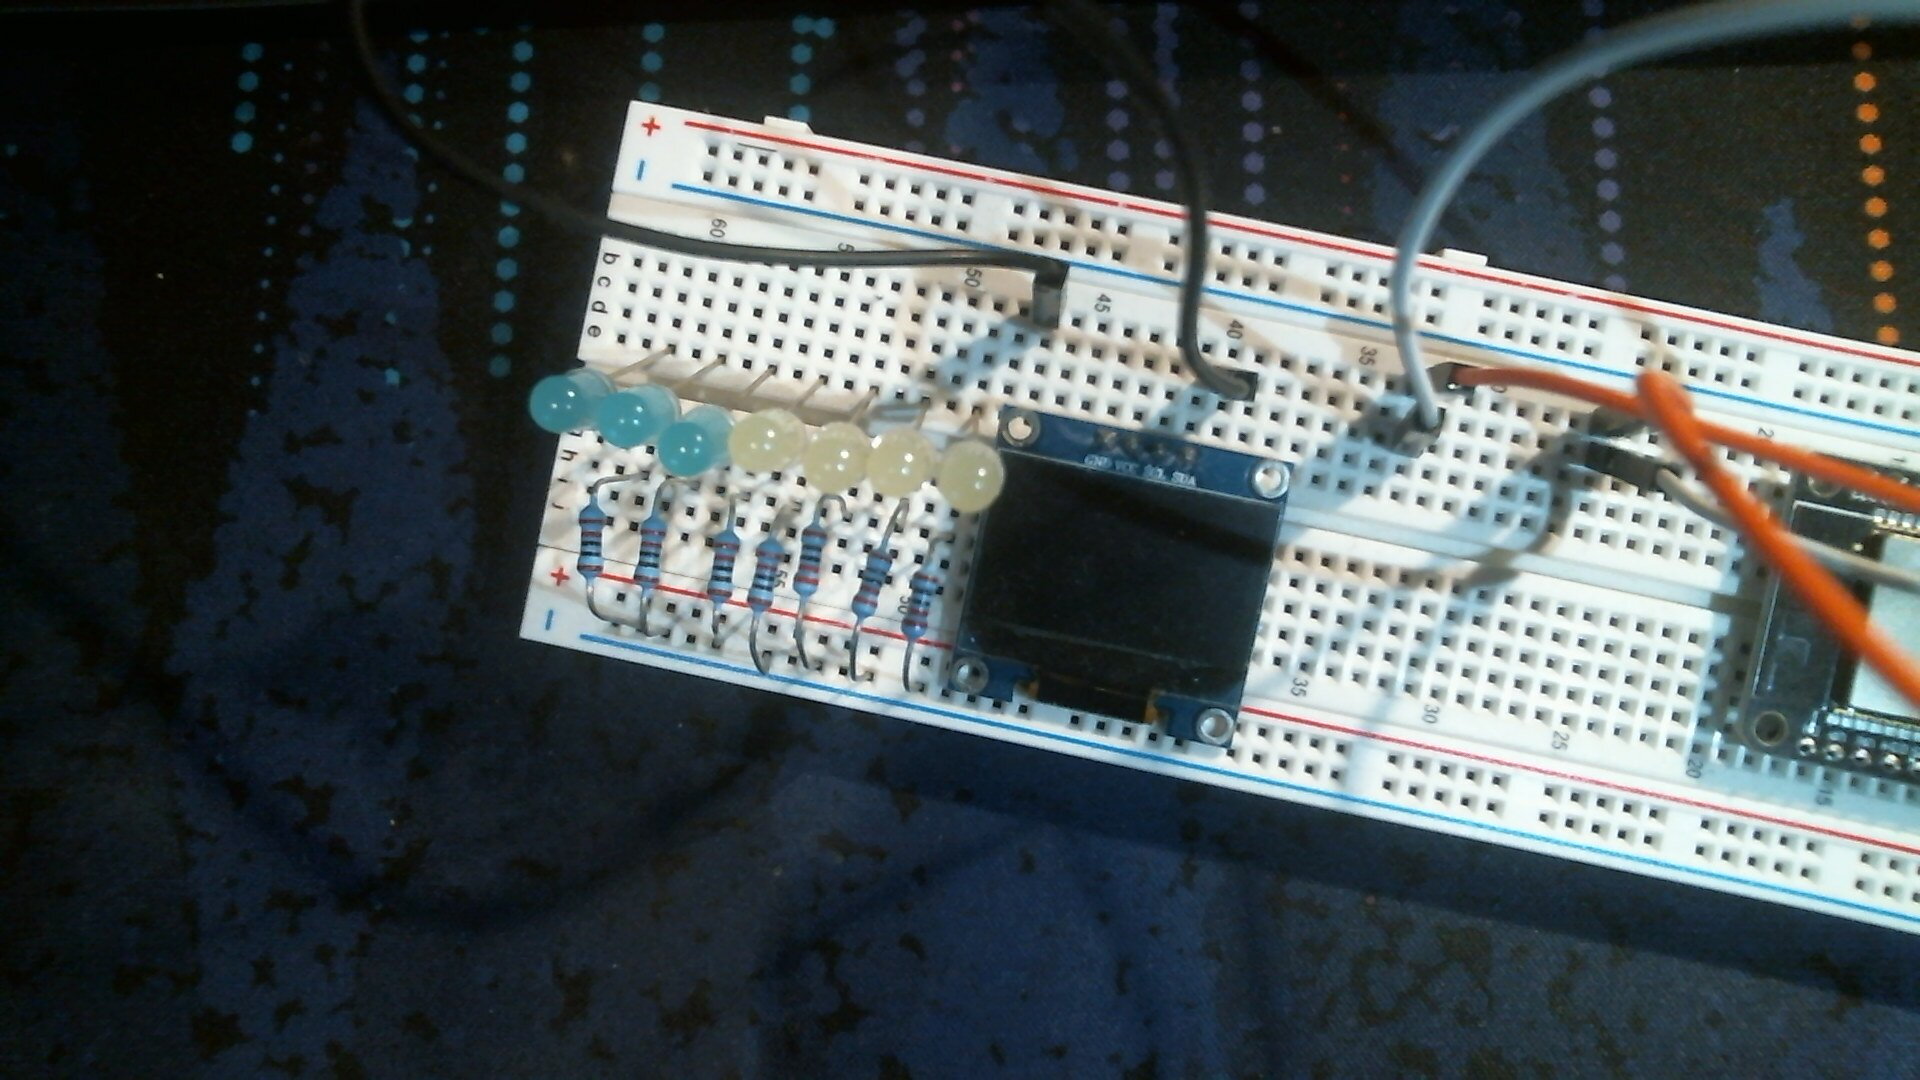resistor: (898, 556, 945, 646), (744, 538, 789, 624), (849, 543, 895, 622), (632, 506, 670, 601), (704, 527, 742, 615), (791, 522, 829, 603), (576, 498, 608, 585)
